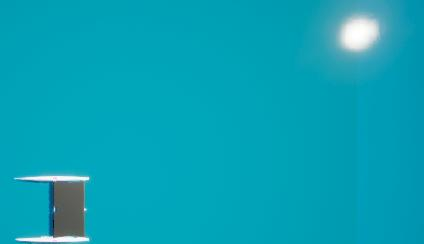boat: (11, 172, 94, 244)
drone: (55, 182, 85, 236)
land_base: (316, 2, 409, 66)
